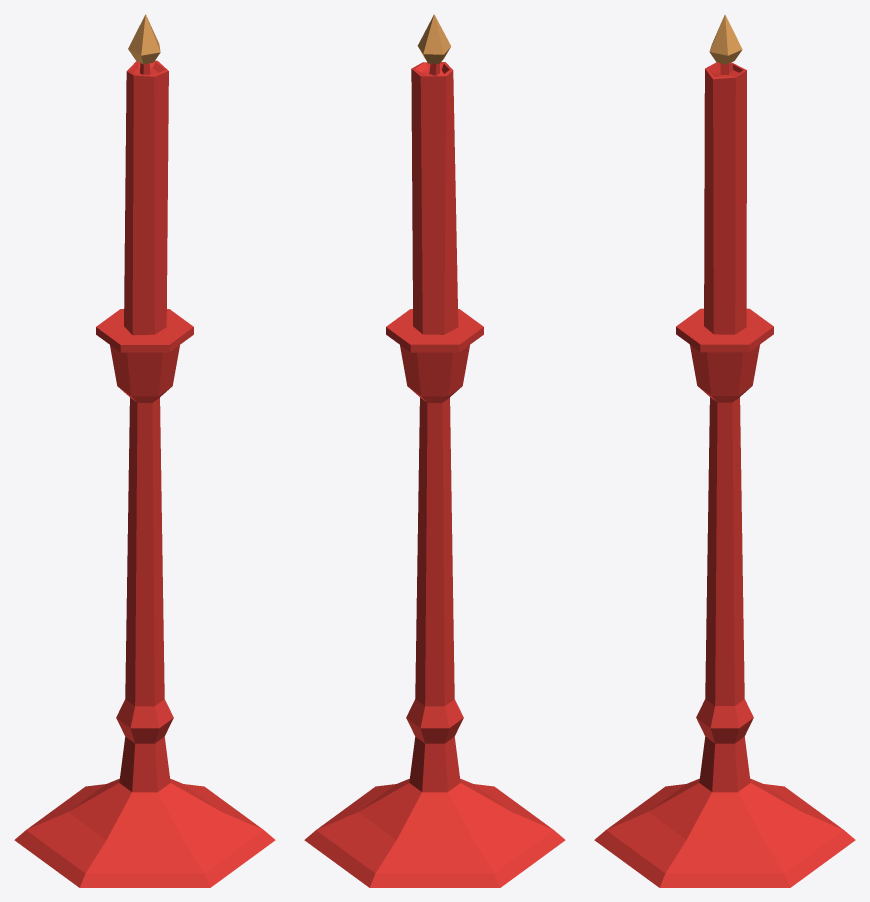
Rendered from SM_Candle_Holder_Tall_A_Lit_Christmas.fbx.
3 views of the same model, side by side, from view 1: azimuth 30°, elevation 25°; view 2: azimuth 150°, elevation 25°; view 3: azimuth 270°, elevation 25° (orthographic).
Visible parts, largest first — view 1: candle-holder-tall-a-lit-christmas; view 2: candle-holder-tall-a-lit-christmas; view 3: candle-holder-tall-a-lit-christmas.
Part boxes in pixels (x1,y1,x2,y2): candle-holder-tall-a-lit-christmas: (14, 14, 275, 887); candle-holder-tall-a-lit-christmas: (304, 14, 565, 887); candle-holder-tall-a-lit-christmas: (594, 14, 855, 887).
Bounding box in the file's own units: 0.1644 × 0.6613 × 0.1898.
